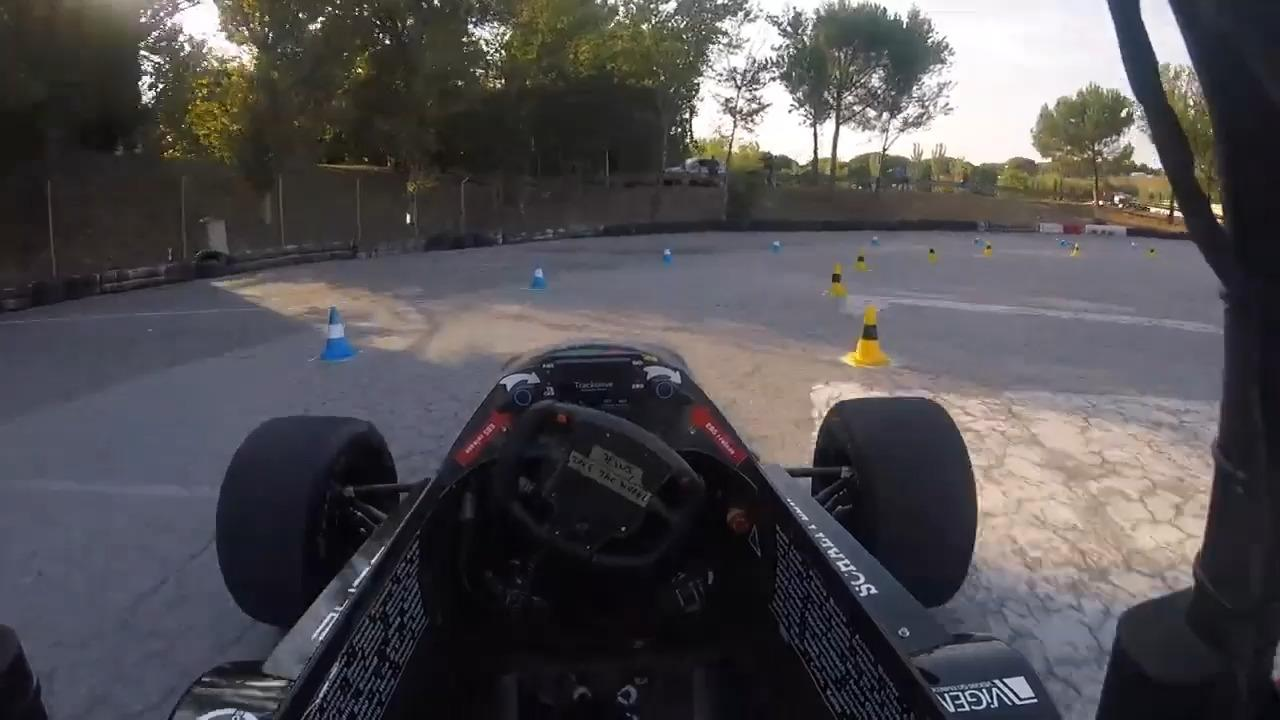blue_cone: (315, 304, 362, 362), (530, 267, 549, 290), (659, 246, 676, 266), (771, 239, 783, 256)
yellow_cone: (847, 303, 892, 368), (827, 264, 849, 298), (853, 250, 870, 273), (1067, 241, 1085, 259), (981, 241, 996, 258), (925, 244, 939, 262)
